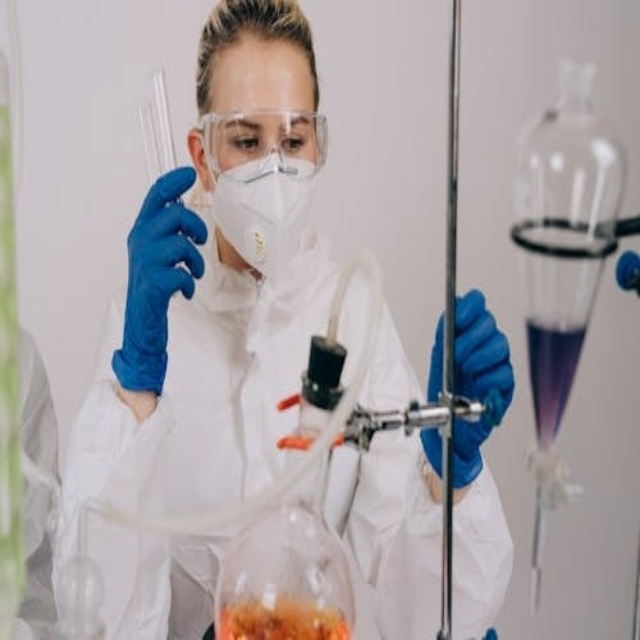Gafas: (199, 102, 328, 179)
Guantes: (113, 163, 208, 397), (423, 286, 516, 490), (616, 249, 639, 295)
Mascara: (204, 134, 322, 282)
